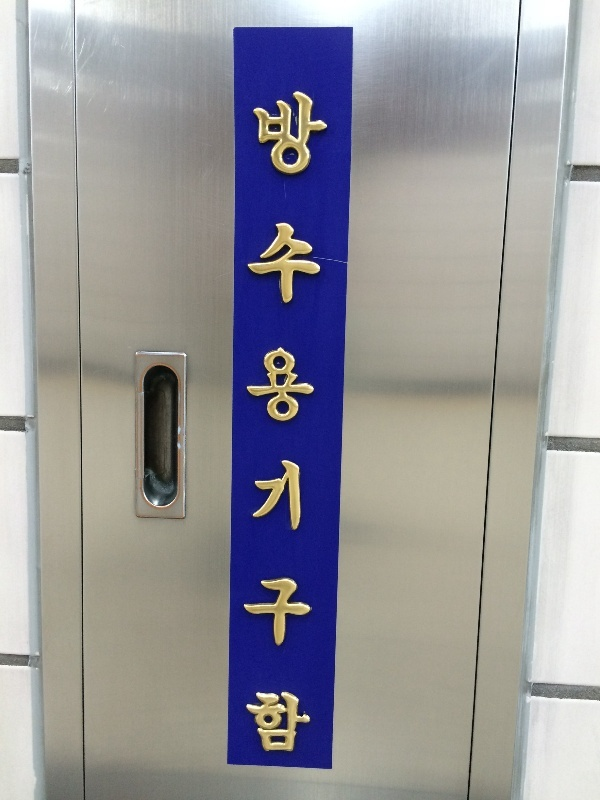text: (257, 89, 272, 759), (273, 89, 288, 759), (289, 89, 304, 759), (305, 89, 320, 759), (321, 89, 331, 759), (250, 89, 256, 759)
